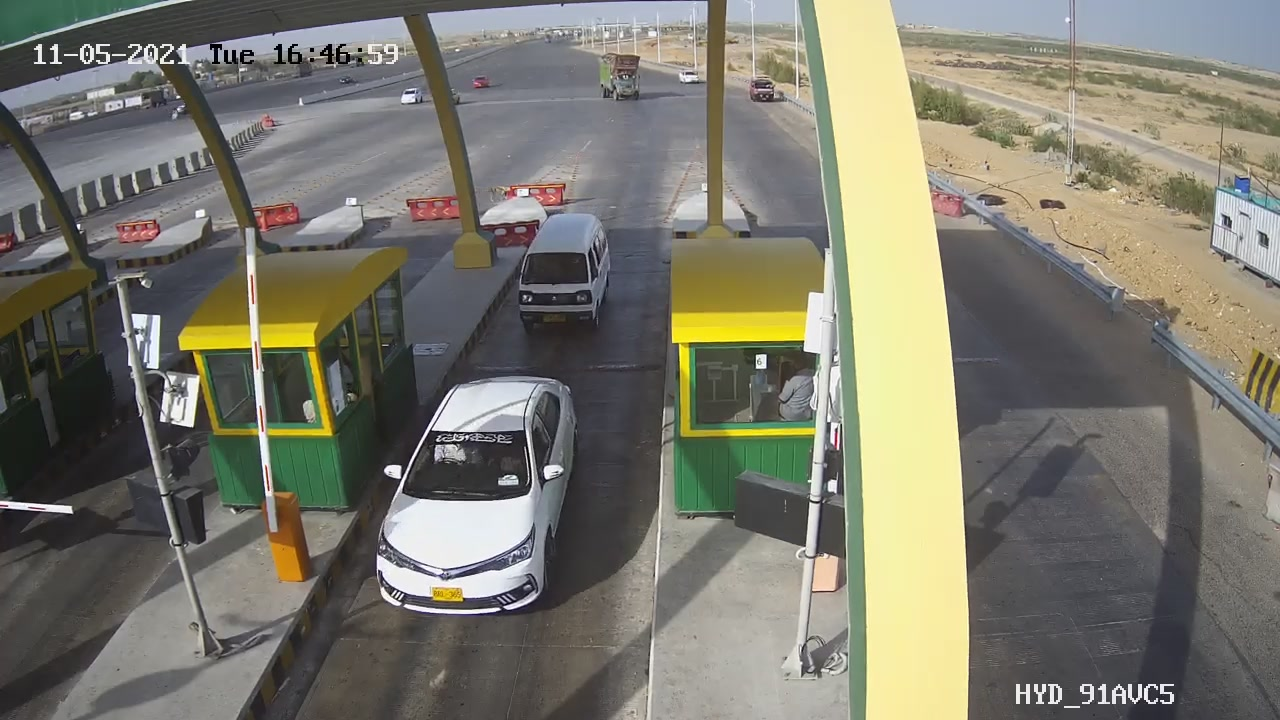F1: (348, 356, 596, 643), (492, 202, 631, 345)
